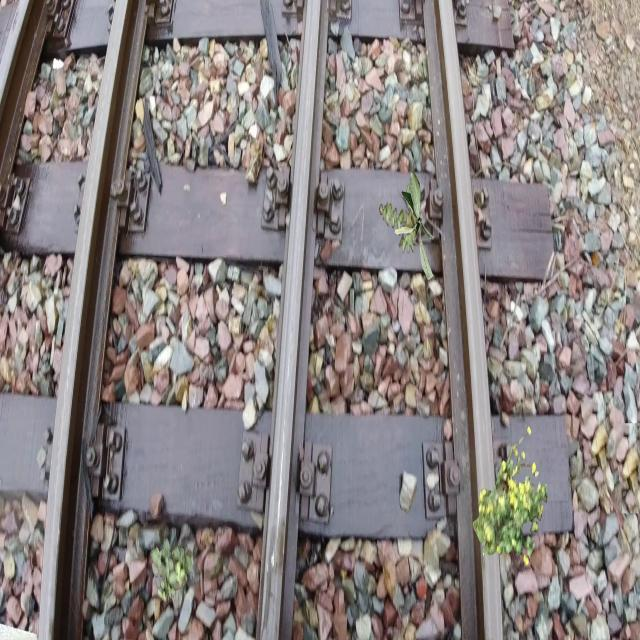Plant: (473, 426, 548, 566), (395, 171, 435, 281), (379, 183, 421, 254), (150, 537, 194, 604)
